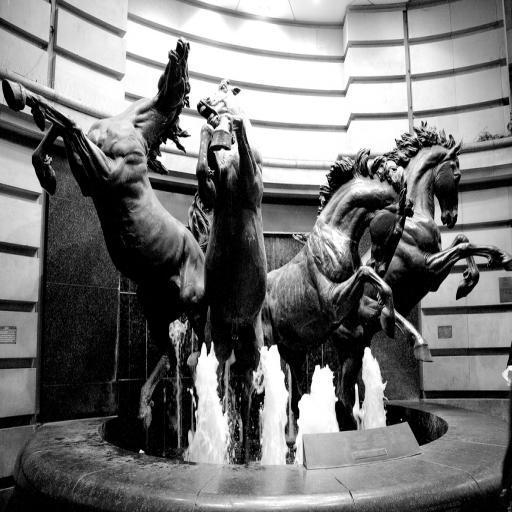horse: (1, 36, 213, 432), (356, 119, 512, 360), (260, 146, 414, 382), (184, 78, 268, 394)
